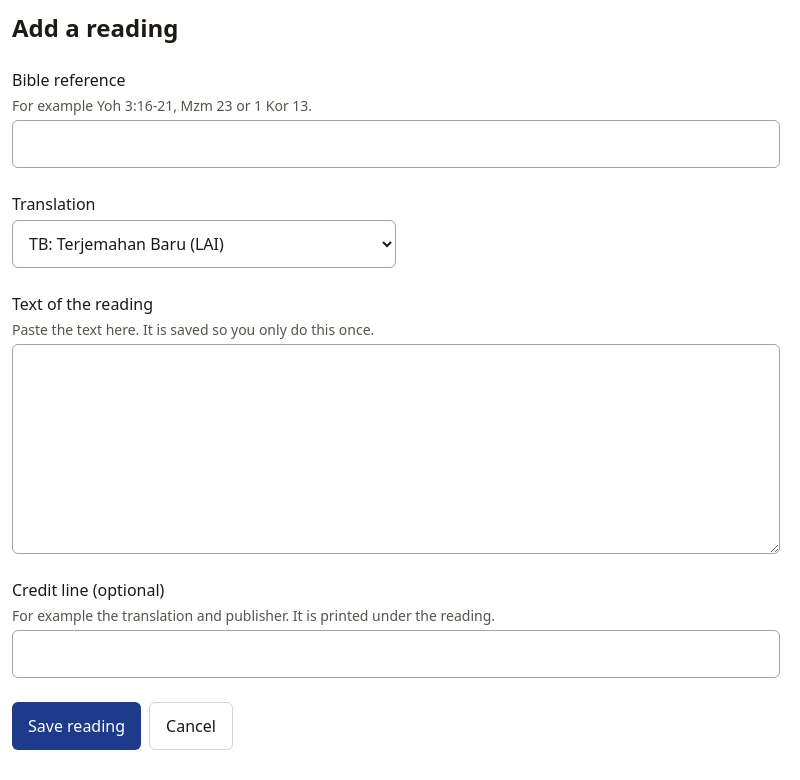
Scenario: ReadingFormPage (07 §5) › needs the text before sending anything
Type "Yoh 3:16" into the field labelled "Bible reference".
click(396, 144); type("Yoh 3:16")  # box [12, 120, 780, 168]
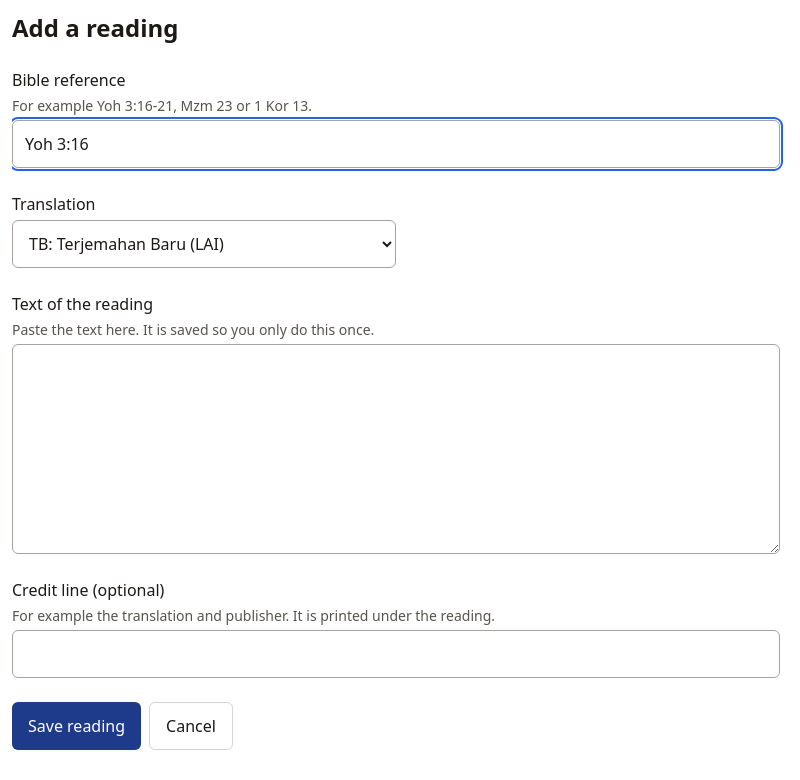
Click the button "Save reading".
click(77, 726)  # box [12, 702, 141, 750]
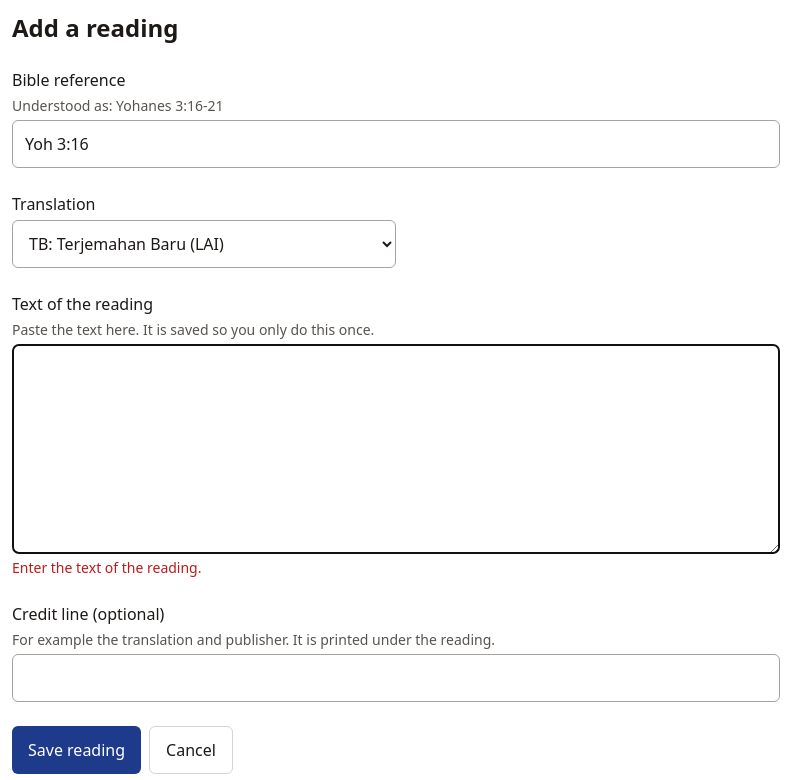
Expected: the text "Enter the text of the reading." is shown, [12, 558, 202, 577]
